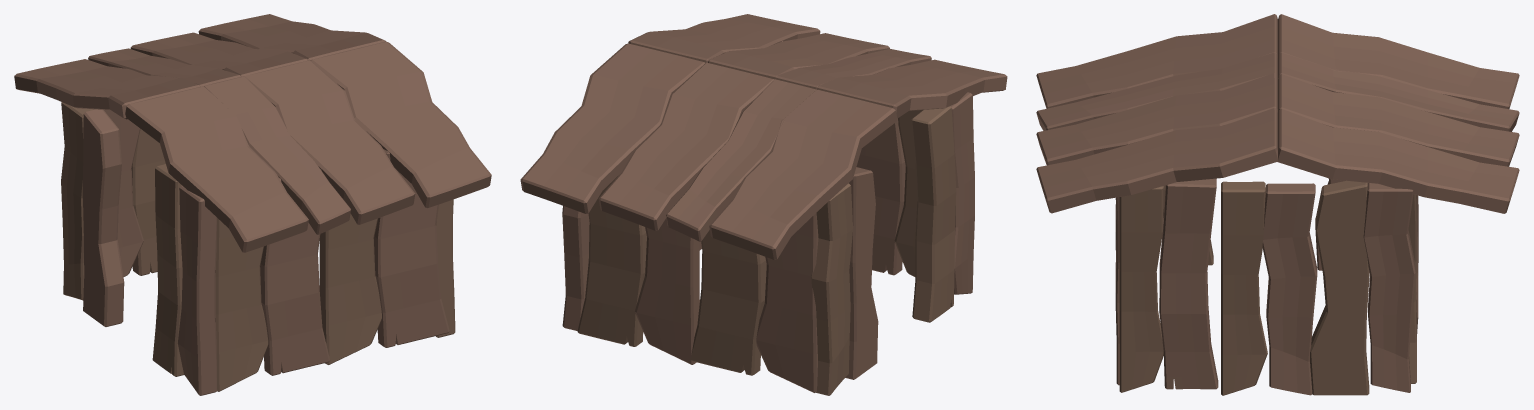
The model's file is CasaMaori.fbx.
3 renders of one model, left to right at view 1: azimuth 30°, elevation 25°; view 2: azimuth 150°, elevation 25°; view 3: azimuth 270°, elevation 25°, orthographic. The views are drawn at different scales.
Visible parts, largest first — view 1: Tabua4.017; view 2: Tabua4.017; view 3: Tabua4.017.
Boxes of the visible parts, box(x1,y1,x2,y2) form: Tabua4.017: box(14, 14, 491, 395); Tabua4.017: box(520, 14, 1007, 395); Tabua4.017: box(1036, 14, 1519, 395).
Bounding box in the file's own units: 386 × 319 × 558.
